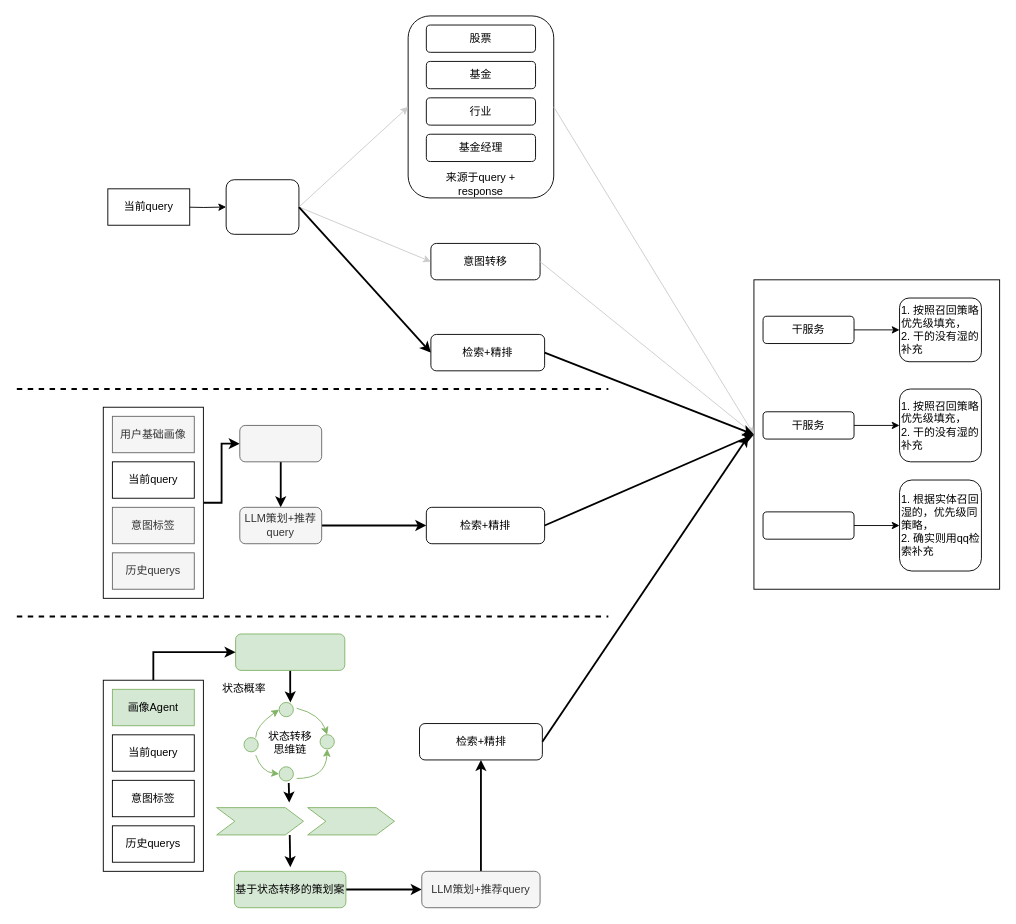
Some shapes in this 1016 by 924 pixel diagram are drawn without their labels. The shapes that lost their labels are listed below. From the top down, each one's box as (x1, y1, x2, y2) in pixels, then its label:
(225, 179, 299, 234): 意图识别 提槽 槽位推理
(239, 425, 322, 462): 基于意图策划案
(762, 511, 854, 539): 湿服务
(235, 633, 345, 670): 状态分类模型
(216, 807, 303, 835): 当前状态
(307, 807, 394, 835): 目标状态
